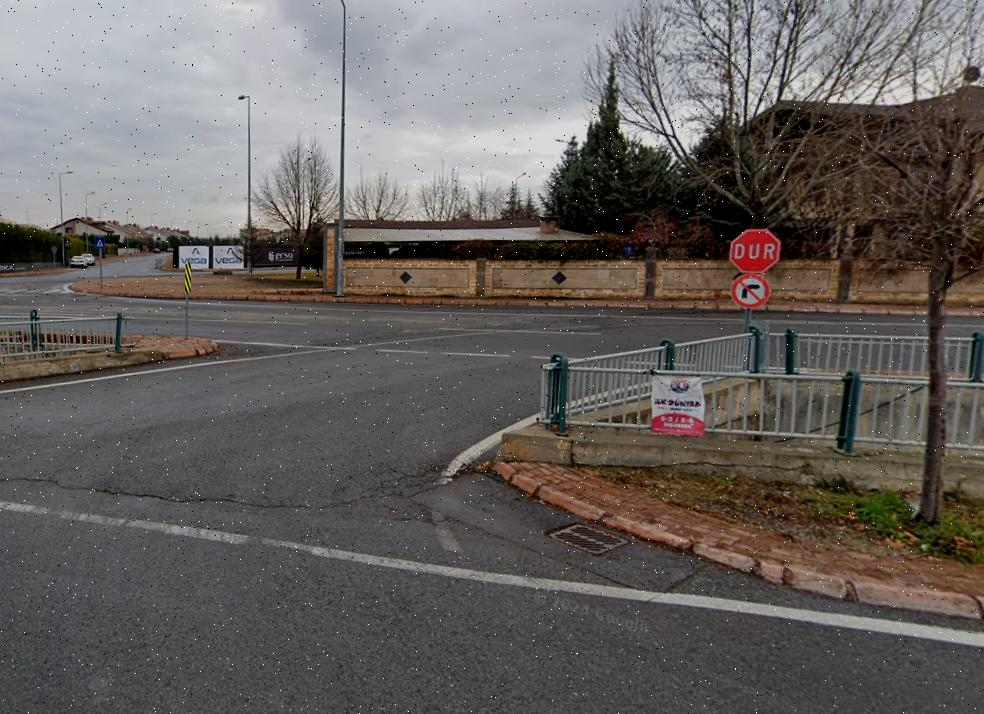rightturnsareforbidden: (734, 274, 769, 308)
stop: (732, 228, 778, 270)
